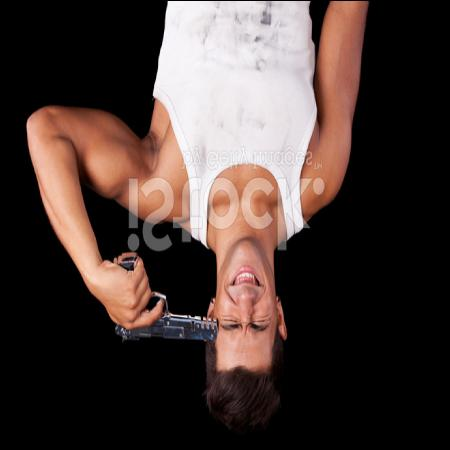Pistol: (108, 254, 218, 350)
